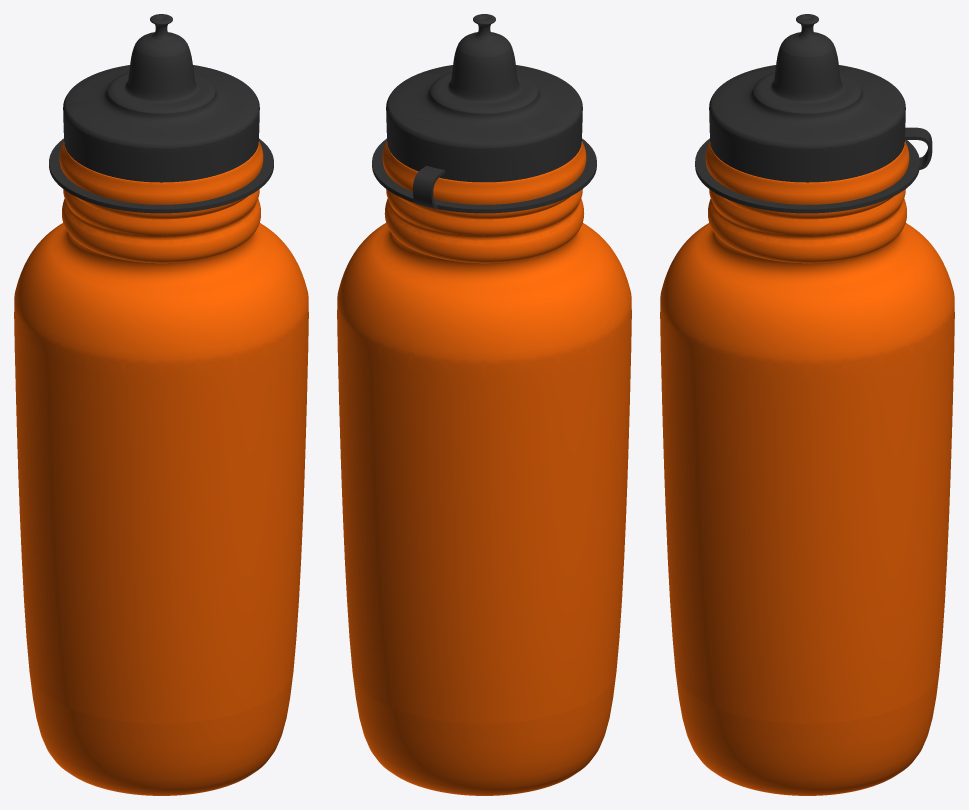
The model's file is 머스타드.FBX.
The picture shows the model from 3 angles, left to right: view 1: azimuth 30°, elevation 25°; view 2: azimuth 150°, elevation 25°; view 3: azimuth 270°, elevation 25°; orthographic projection.
Visible parts, largest first — view 1: Water_Bottle; view 2: Water_Bottle; view 3: Water_Bottle.
Part boxes in pixels (x1,y1,x2,y2): Water_Bottle: (14,14,308,795); Water_Bottle: (337,14,631,795); Water_Bottle: (660,14,954,795).
Size of the model in its own units: 2.68 by 7.43 by 2.68.
